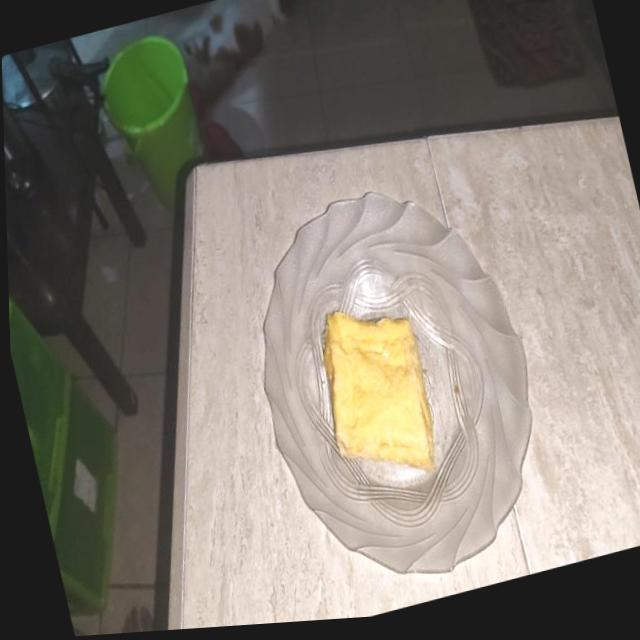tahu_goreng: (324, 313, 436, 487)
